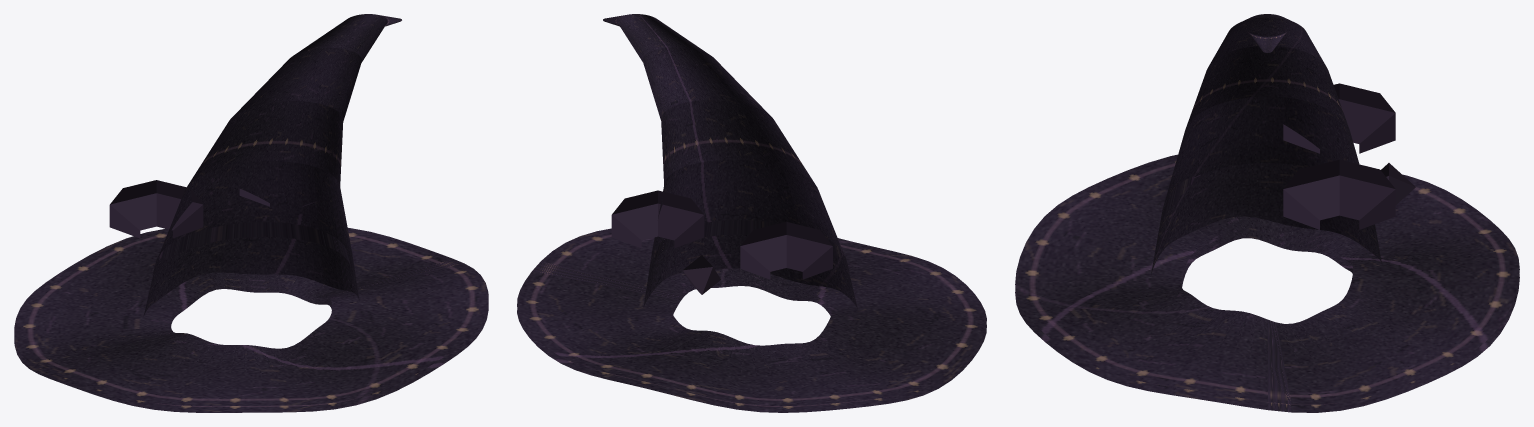
File: witch_hat.obj
3 views of the same model, side by side, from view 1: azimuth 30°, elevation 25°; view 2: azimuth 150°, elevation 25°; view 3: azimuth 270°, elevation 25° (orthographic). The views are drawn at different scales.
Parts seen in each view (by area): view 1: WitchHat_Artisan_C; view 2: WitchHat_Artisan_C; view 3: WitchHat_Artisan_C.
Part boxes in pixels (<box>): WitchHat_Artisan_C: <box>14,14,488,412</box>; WitchHat_Artisan_C: <box>517,14,986,412</box>; WitchHat_Artisan_C: <box>1015,14,1519,412</box>.
Size of the model in its own units: 1.64 by 1.02 by 1.4.
Materials: 1 (1 with a texture image).
